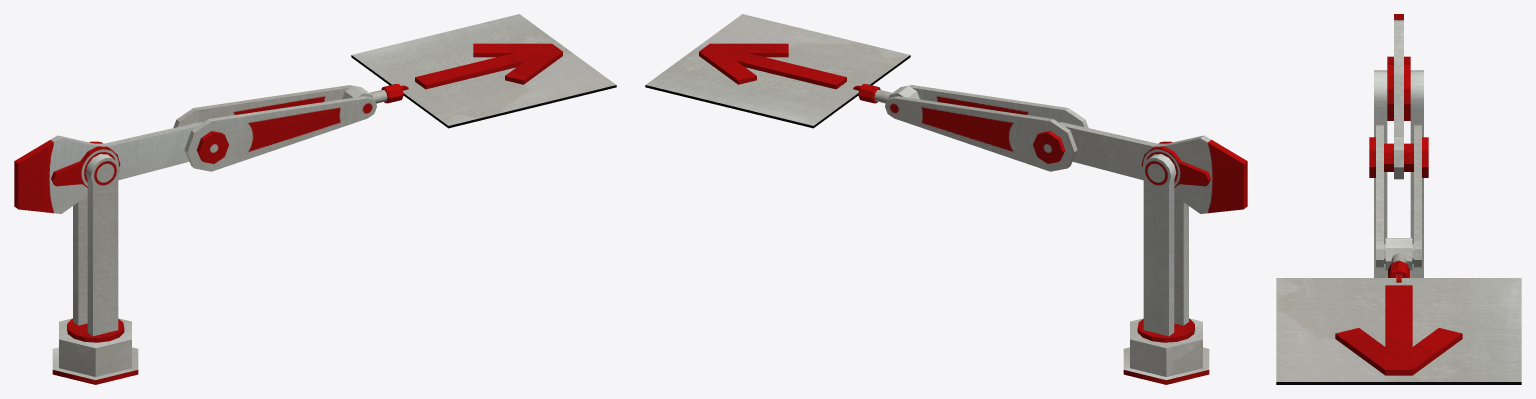
File: Seta.FBX
3 views of the same model, side by side, from view 1: azimuth 30°, elevation 25°; view 2: azimuth 150°, elevation 25°; view 3: azimuth 270°, elevation 25° (orthographic). The views are drawn at different scales.
Visible parts, largest first — view 1: Tela, Haste03, Haste01, Haste02, Base, Conector01; view 2: Tela, Haste03, Haste01, Haste02, Base, Conector01; view 3: Tela, Haste01, Haste02, Haste03, Conector01, Conector02, Mao.
Part boxes in pixels (left/top/right/bottom): Tela: left=351, top=14, right=616, bottom=128; Haste03: left=173, top=85, right=376, bottom=171; Haste01: left=67, top=154, right=124, bottom=342; Haste02: left=14, top=122, right=228, bottom=213; Base: left=52, top=318, right=138, bottom=384; Conector01: left=51, top=141, right=120, bottom=187; Tela: left=645, top=14, right=910, bottom=128; Haste03: left=885, top=85, right=1088, bottom=171; Haste01: left=1137, top=154, right=1194, bottom=342; Haste02: left=1033, top=122, right=1247, bottom=213; Base: left=1123, top=318, right=1209, bottom=384; Conector01: left=1141, top=141, right=1210, bottom=187; Tela: left=1276, top=278, right=1521, bottom=384; Haste01: left=1374, top=70, right=1423, bottom=277; Haste02: left=1369, top=14, right=1428, bottom=179; Haste03: left=1376, top=124, right=1421, bottom=267; Conector01: left=1387, top=56, right=1410, bottom=120; Conector02: left=1385, top=238, right=1412, bottom=270; Mao: left=1387, top=260, right=1410, bottom=282.
Size of the model in its own units: 120 by 49.16 by 36.62.
1 material, 1 textured.
